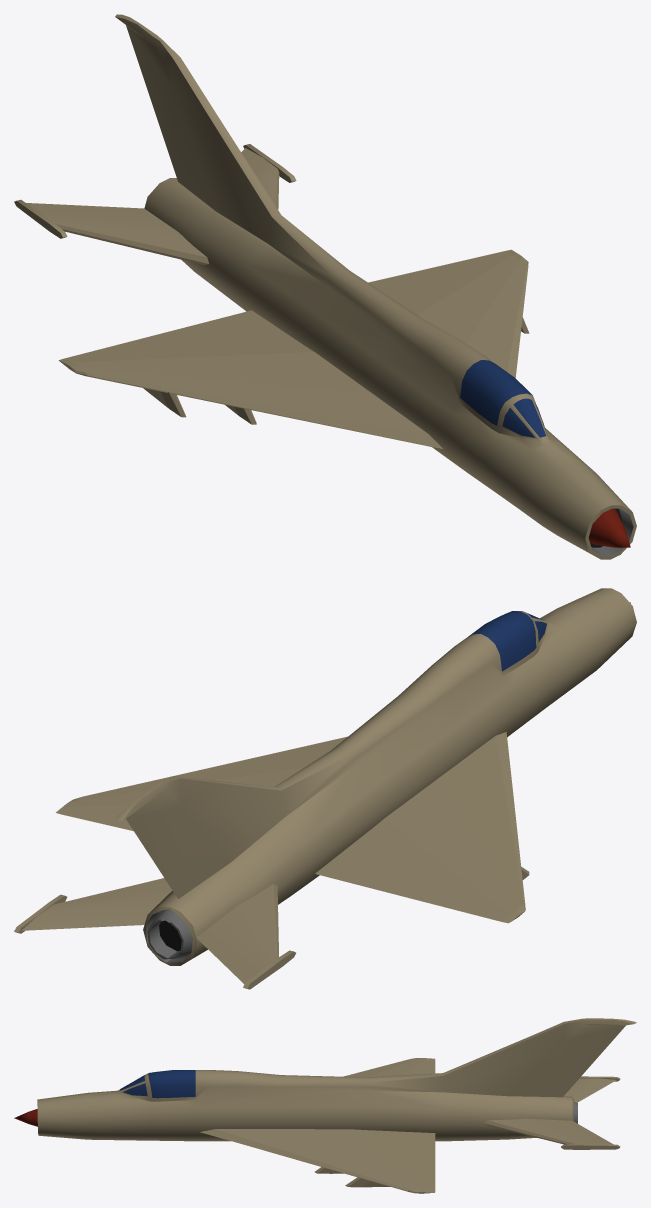
Rendered from mig21.glb.
3 renders of one model, top to bottom at view 1: azimuth 30°, elevation 25°; view 2: azimuth 150°, elevation 25°; view 3: azimuth 270°, elevation 25°, orthographic. The views are drawn at different scales.
Visible parts, largest first — view 1: mig21.001; view 2: mig21.001; view 3: mig21.001.
Part boxes in pixels (box(x1,y1,x2,y2)): mig21.001: box(14, 14, 636, 559); mig21.001: box(14, 588, 636, 989); mig21.001: box(14, 1018, 636, 1193).
Size of the model in its own units: 7.15 by 3 by 14.04.
